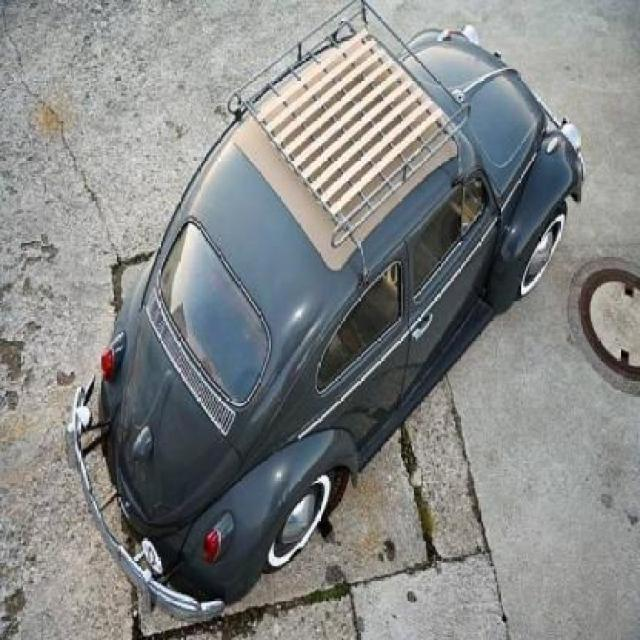car: (94, 29, 579, 592)
